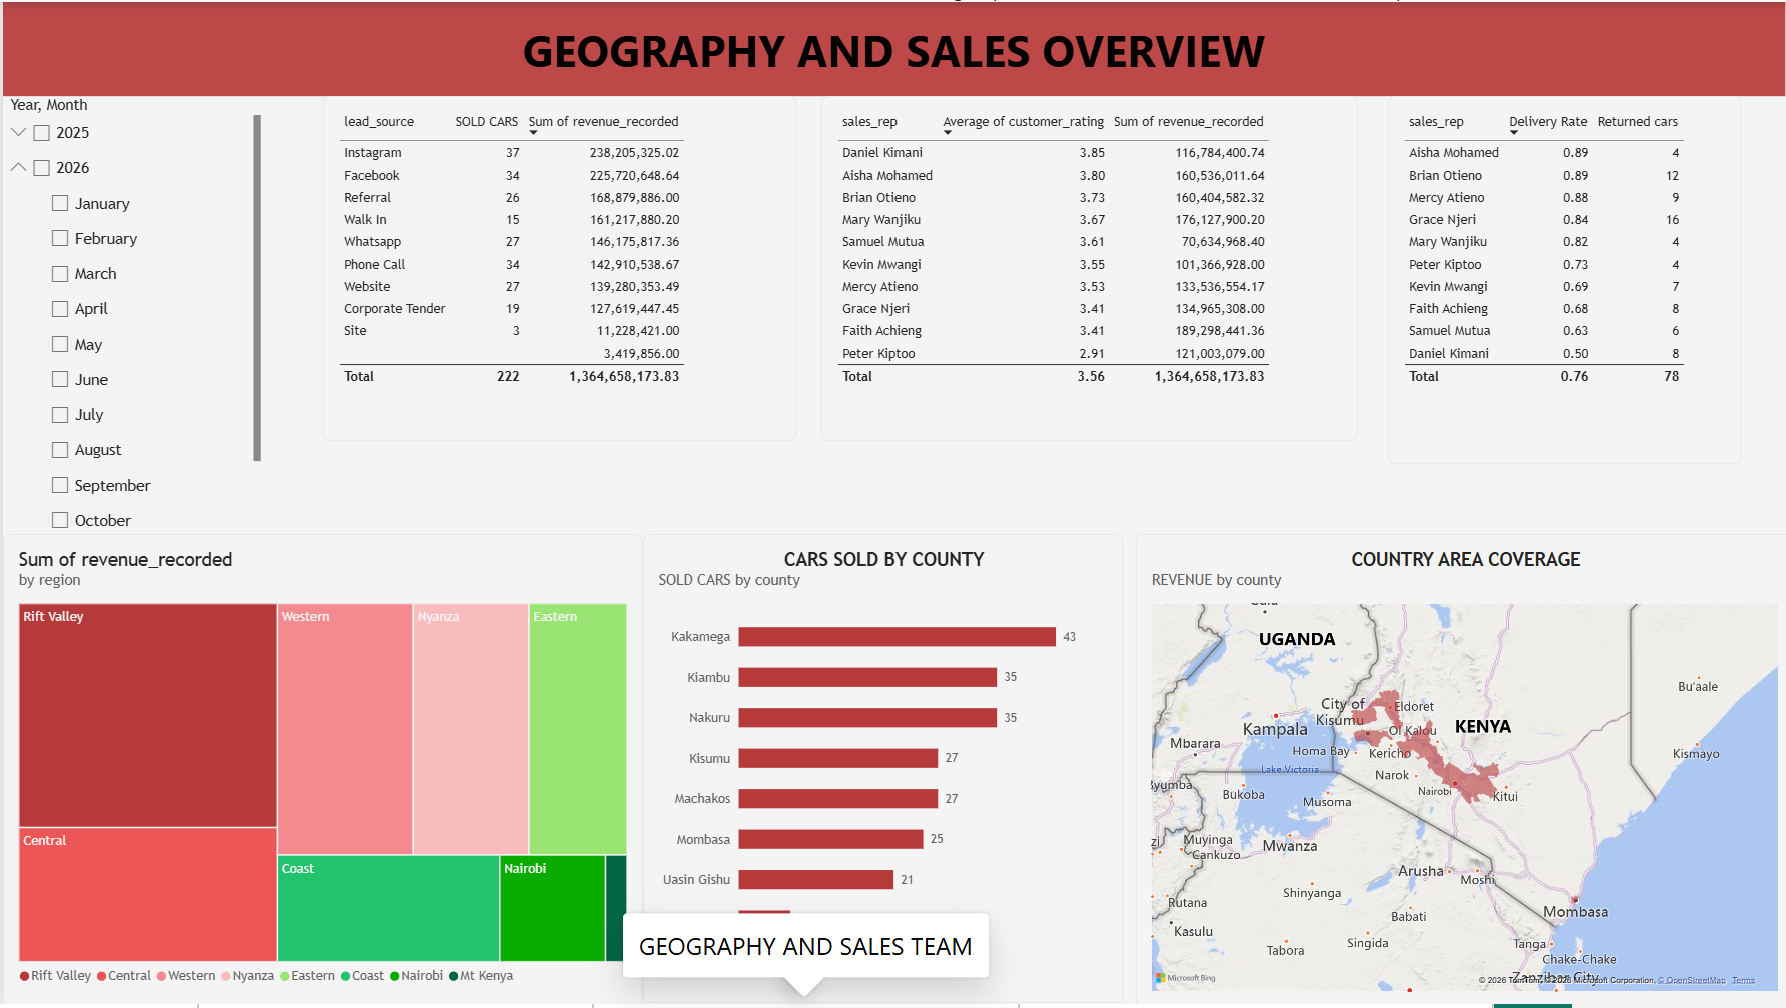

Layout of this report page (visuals, bound fields, positions):
{"tool":"powerbi","page":{"name":"GEOGRAPHY AND SALES TEAM","canvas":[1920,1080],"ordinal":2},"visuals":[{"type":"shape","title":"J CARS AUTOMOTIVE DEALERSHIP","box":[0,0,1920,101.7],"z":0},{"type":"treemap","fields":{"Group":["facts_sales.region"],"Values":["Sum(facts_sales.revenue_recorded)"]},"box":[0,573.6,689.6,507.9],"z":5000},{"type":"filledMap","title":"COUNTRY AREA COVERAGE","fields":{"Category":["facts_sales.county"]},"box":[1219.4,573.6,709.3,510.1],"z":6000},{"type":"tableEx","fields":{"Values":["dim_salesrep.sales_rep","Avg(facts_sales.customer_rating)","Sum(facts_sales.revenue_recorded)"]},"box":[882.3,100.7,578,372.2],"z":6001},{"type":"tableEx","fields":{"Values":["dim_salesrep.sales_rep","facts_sales.Delivery rate","facts_sales.Returned cars"]},"box":[1490.9,100.7,380.9,396.3],"z":6002},{"type":"slicer","fields":{"Values":["facts_sales.order_date.Variation.Date Hierarchy.Year","facts_sales.order_date.Variation.Date Hierarchy.Month"]},"box":[0,100.7,278,466.3],"z":6003},{"type":"tableEx","fields":{"Values":["facts_sales.lead_source","facts_sales.SOLD CARS","Sum(facts_sales.revenue_recorded)"]},"box":[345.9,100.7,510.1,372.2],"z":6004},{"type":"clusteredBarChart","title":"CARS SOLD BY COUNTY","fields":{"Category":["facts_sales.county"],"Y":["facts_sales.SOLD CARS"]},"box":[689.6,573.6,516.7,505.7],"z":6005}]}

Visuals, with their boxes in screenshot pixels (x1, y1, x2, y2), scaled from the page's 1920x1080 canvas onto the 1786x1008 screenshot:
"J CARS AUTOMOTIVE DEALERSHIP" shape: <region>0, 0, 1785, 95</region>
treemap - facts_sales.region x Sum(facts_sales.revenue_recorded): <region>0, 535, 641, 1007</region>
"COUNTRY AREA COVERAGE" filledMap: <region>1134, 535, 1785, 1007</region>
tableEx - dim_salesrep.sales_rep x Avg(facts_sales.customer_rating): <region>821, 94, 1358, 441</region>
tableEx - dim_salesrep.sales_rep x facts_sales.Delivery rate: <region>1387, 94, 1741, 464</region>
slicer - facts_sales.order_date.Variation.Date Hierarchy.Year x facts_sales.order_date.Variation.Date Hierarchy.Month: <region>0, 94, 259, 529</region>
tableEx - facts_sales.lead_source x facts_sales.SOLD CARS: <region>322, 94, 796, 441</region>
"CARS SOLD BY COUNTY" clusteredBarChart: <region>641, 535, 1122, 1007</region>
